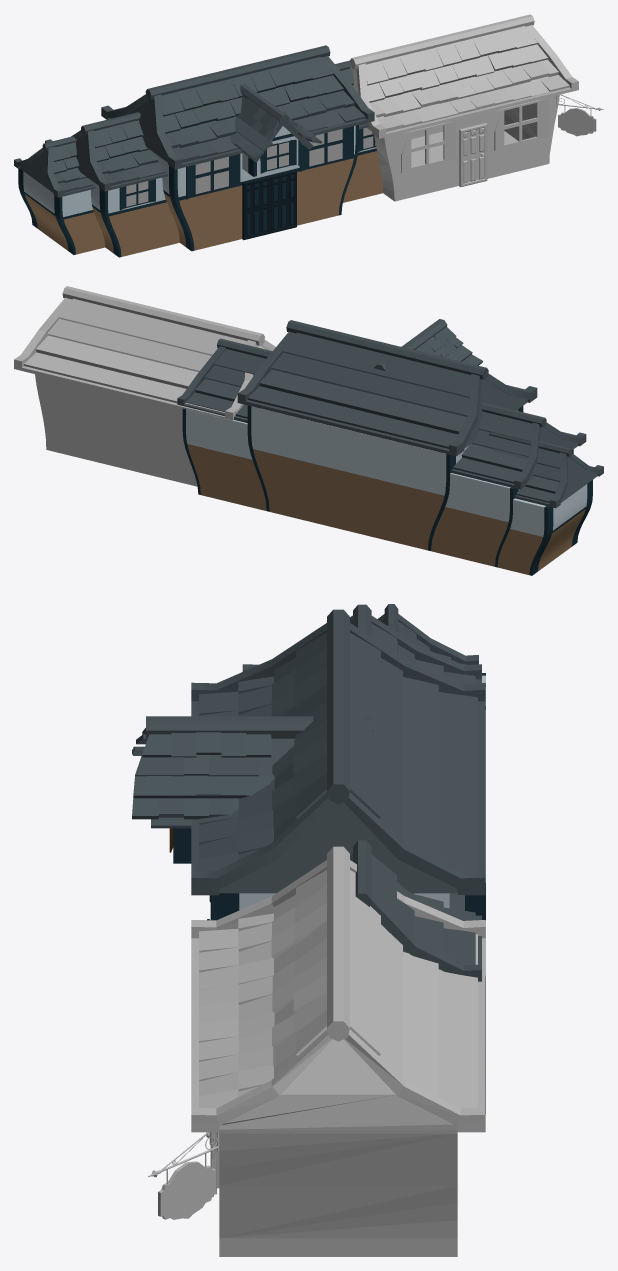
Rendered from pub.fbx.
The picture shows the model from 3 angles, top to bottom: view 1: azimuth 30°, elevation 25°; view 2: azimuth 150°, elevation 25°; view 3: azimuth 270°, elevation 25°; orthographic projection. The views are drawn at different scales.
Parts seen in each view (by area): view 1: pPlane21, polySurface11, polySurface7; view 2: pPlane21, polySurface11, polySurface7; view 3: pPlane21, polySurface11, polySurface7.
Boxes of the visible parts, x1,y1,x2,y2 form: pPlane21: (14, 45, 382, 257); polySurface11: (349, 14, 603, 201); polySurface7: (351, 15, 603, 191); pPlane21: (177, 319, 603, 575); polySurface11: (14, 286, 275, 486); polySurface7: (14, 286, 268, 486); pPlane21: (132, 604, 485, 1114); polySurface11: (148, 846, 485, 1256); polySurface7: (149, 867, 485, 1233).
Size of the model in its own units: 27.83 by 7.48 by 8.41.
